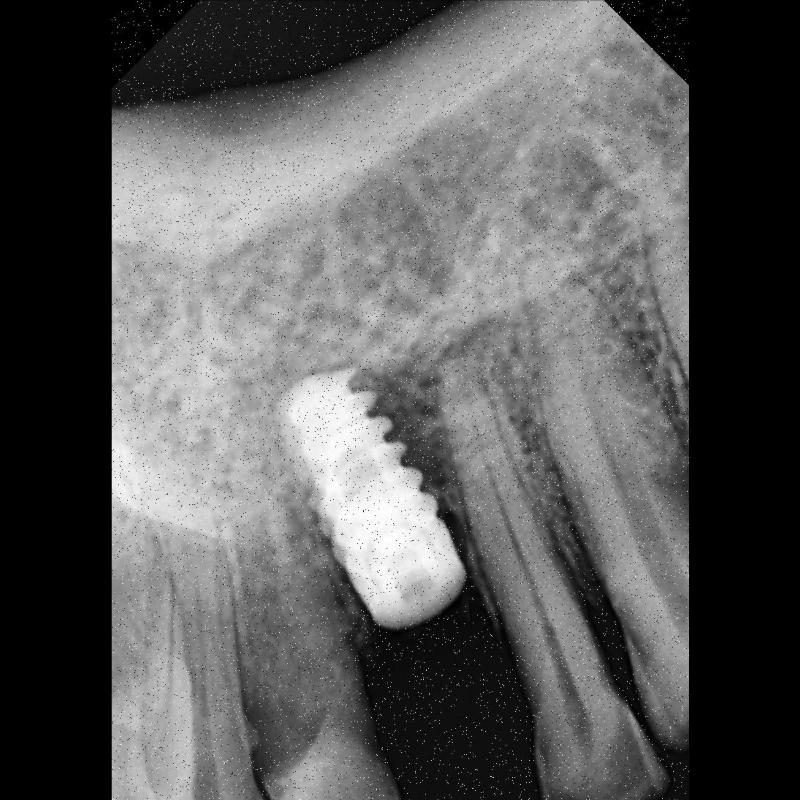NORIS: (265, 361, 468, 635)
